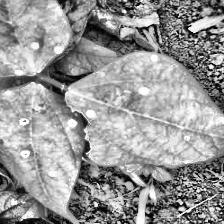Bean Rust: (63, 53, 224, 166), (0, 84, 84, 224), (0, 0, 66, 78)
